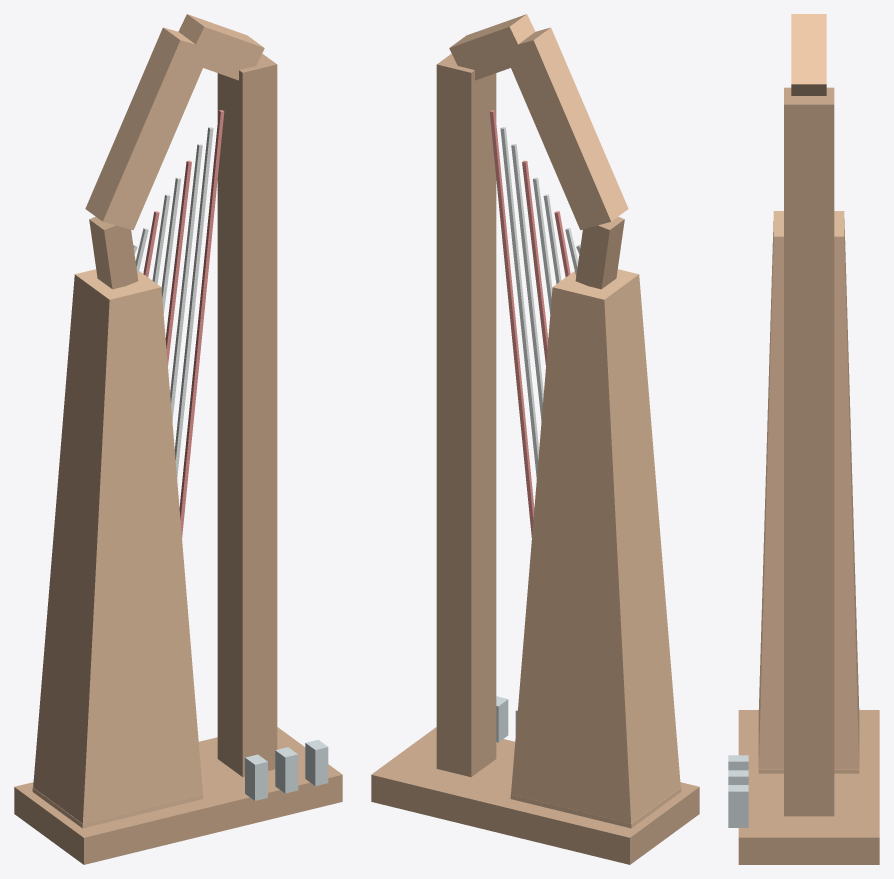
File: harpConcert.glb
3 renders of one model, left to right at view 1: azimuth 30°, elevation 25°; view 2: azimuth 150°, elevation 25°; view 3: azimuth 270°, elevation 25°, orthographic.
Visible parts, largest first — view 1: harpConcert; view 2: harpConcert; view 3: harpConcert.
Boxes of the visible parts, box(x1,y1,x2,y2) form: harpConcert: box(14, 14, 342, 864); harpConcert: box(371, 14, 699, 864); harpConcert: box(728, 14, 879, 864).
Bounding box in the file's own units: 0.3 × 0.8674 × 0.15.
